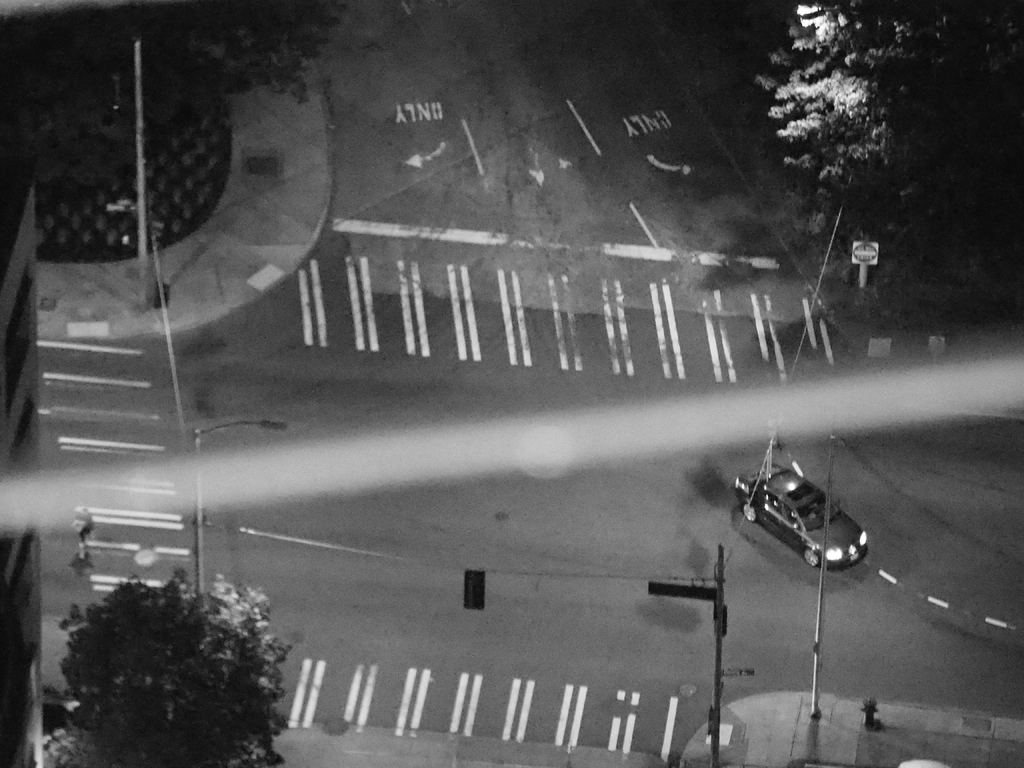Car: (748, 448, 860, 578)
